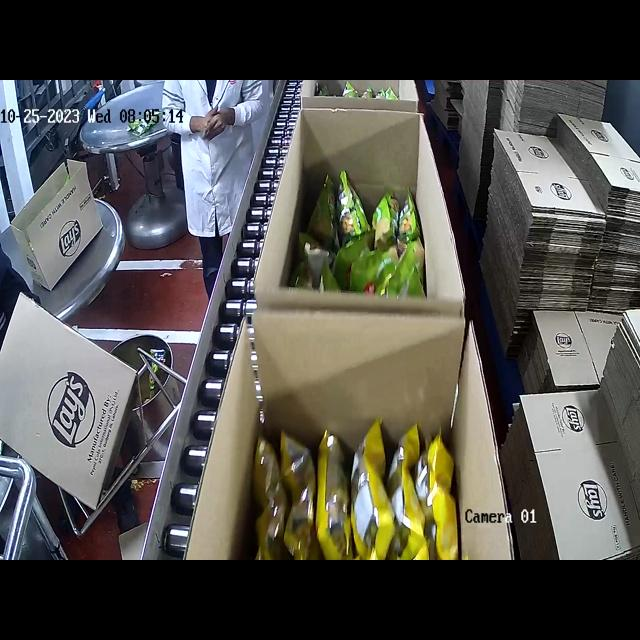salted: (230, 402, 457, 560)
yogurt: (303, 168, 427, 317)
